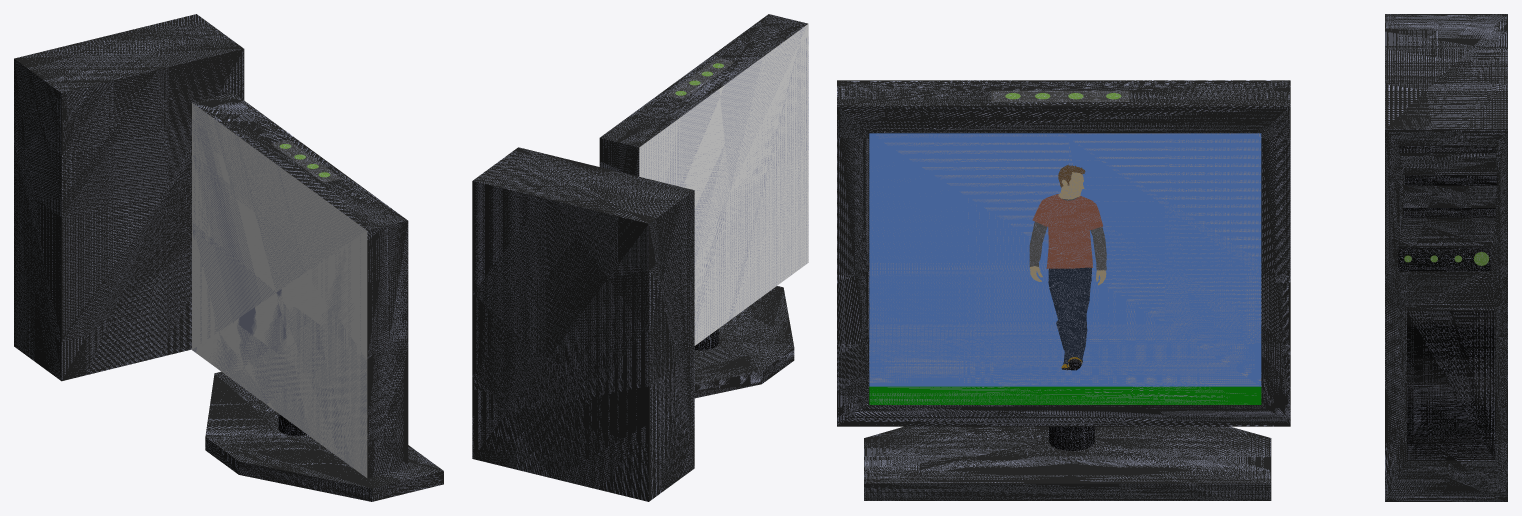
The model's file is desktop.dae.
The picture shows the model from 3 angles, left to right: view 1: azimuth 30°, elevation 25°; view 2: azimuth 150°, elevation 25°; view 3: azimuth 270°, elevation 25°; orthographic projection. The views are drawn at different scales.
Parts seen in each view (by area): view 1: SketchUp (×5); view 2: SketchUp (×5); view 3: SketchUp (×11), Bryce (×2).
Boxes of the visible parts, bbox=[...] form: SketchUp (×5): bbox=[14, 14, 443, 501]; SketchUp (×5): bbox=[472, 14, 808, 501]; SketchUp (×11): bbox=[837, 14, 1507, 501]; Bryce (×2): bbox=[1032, 194, 1102, 367].
Bounding box in the file's own units: 17.75 × 43.64 × 26.75.
Materials: 17 (1 with a texture image).
